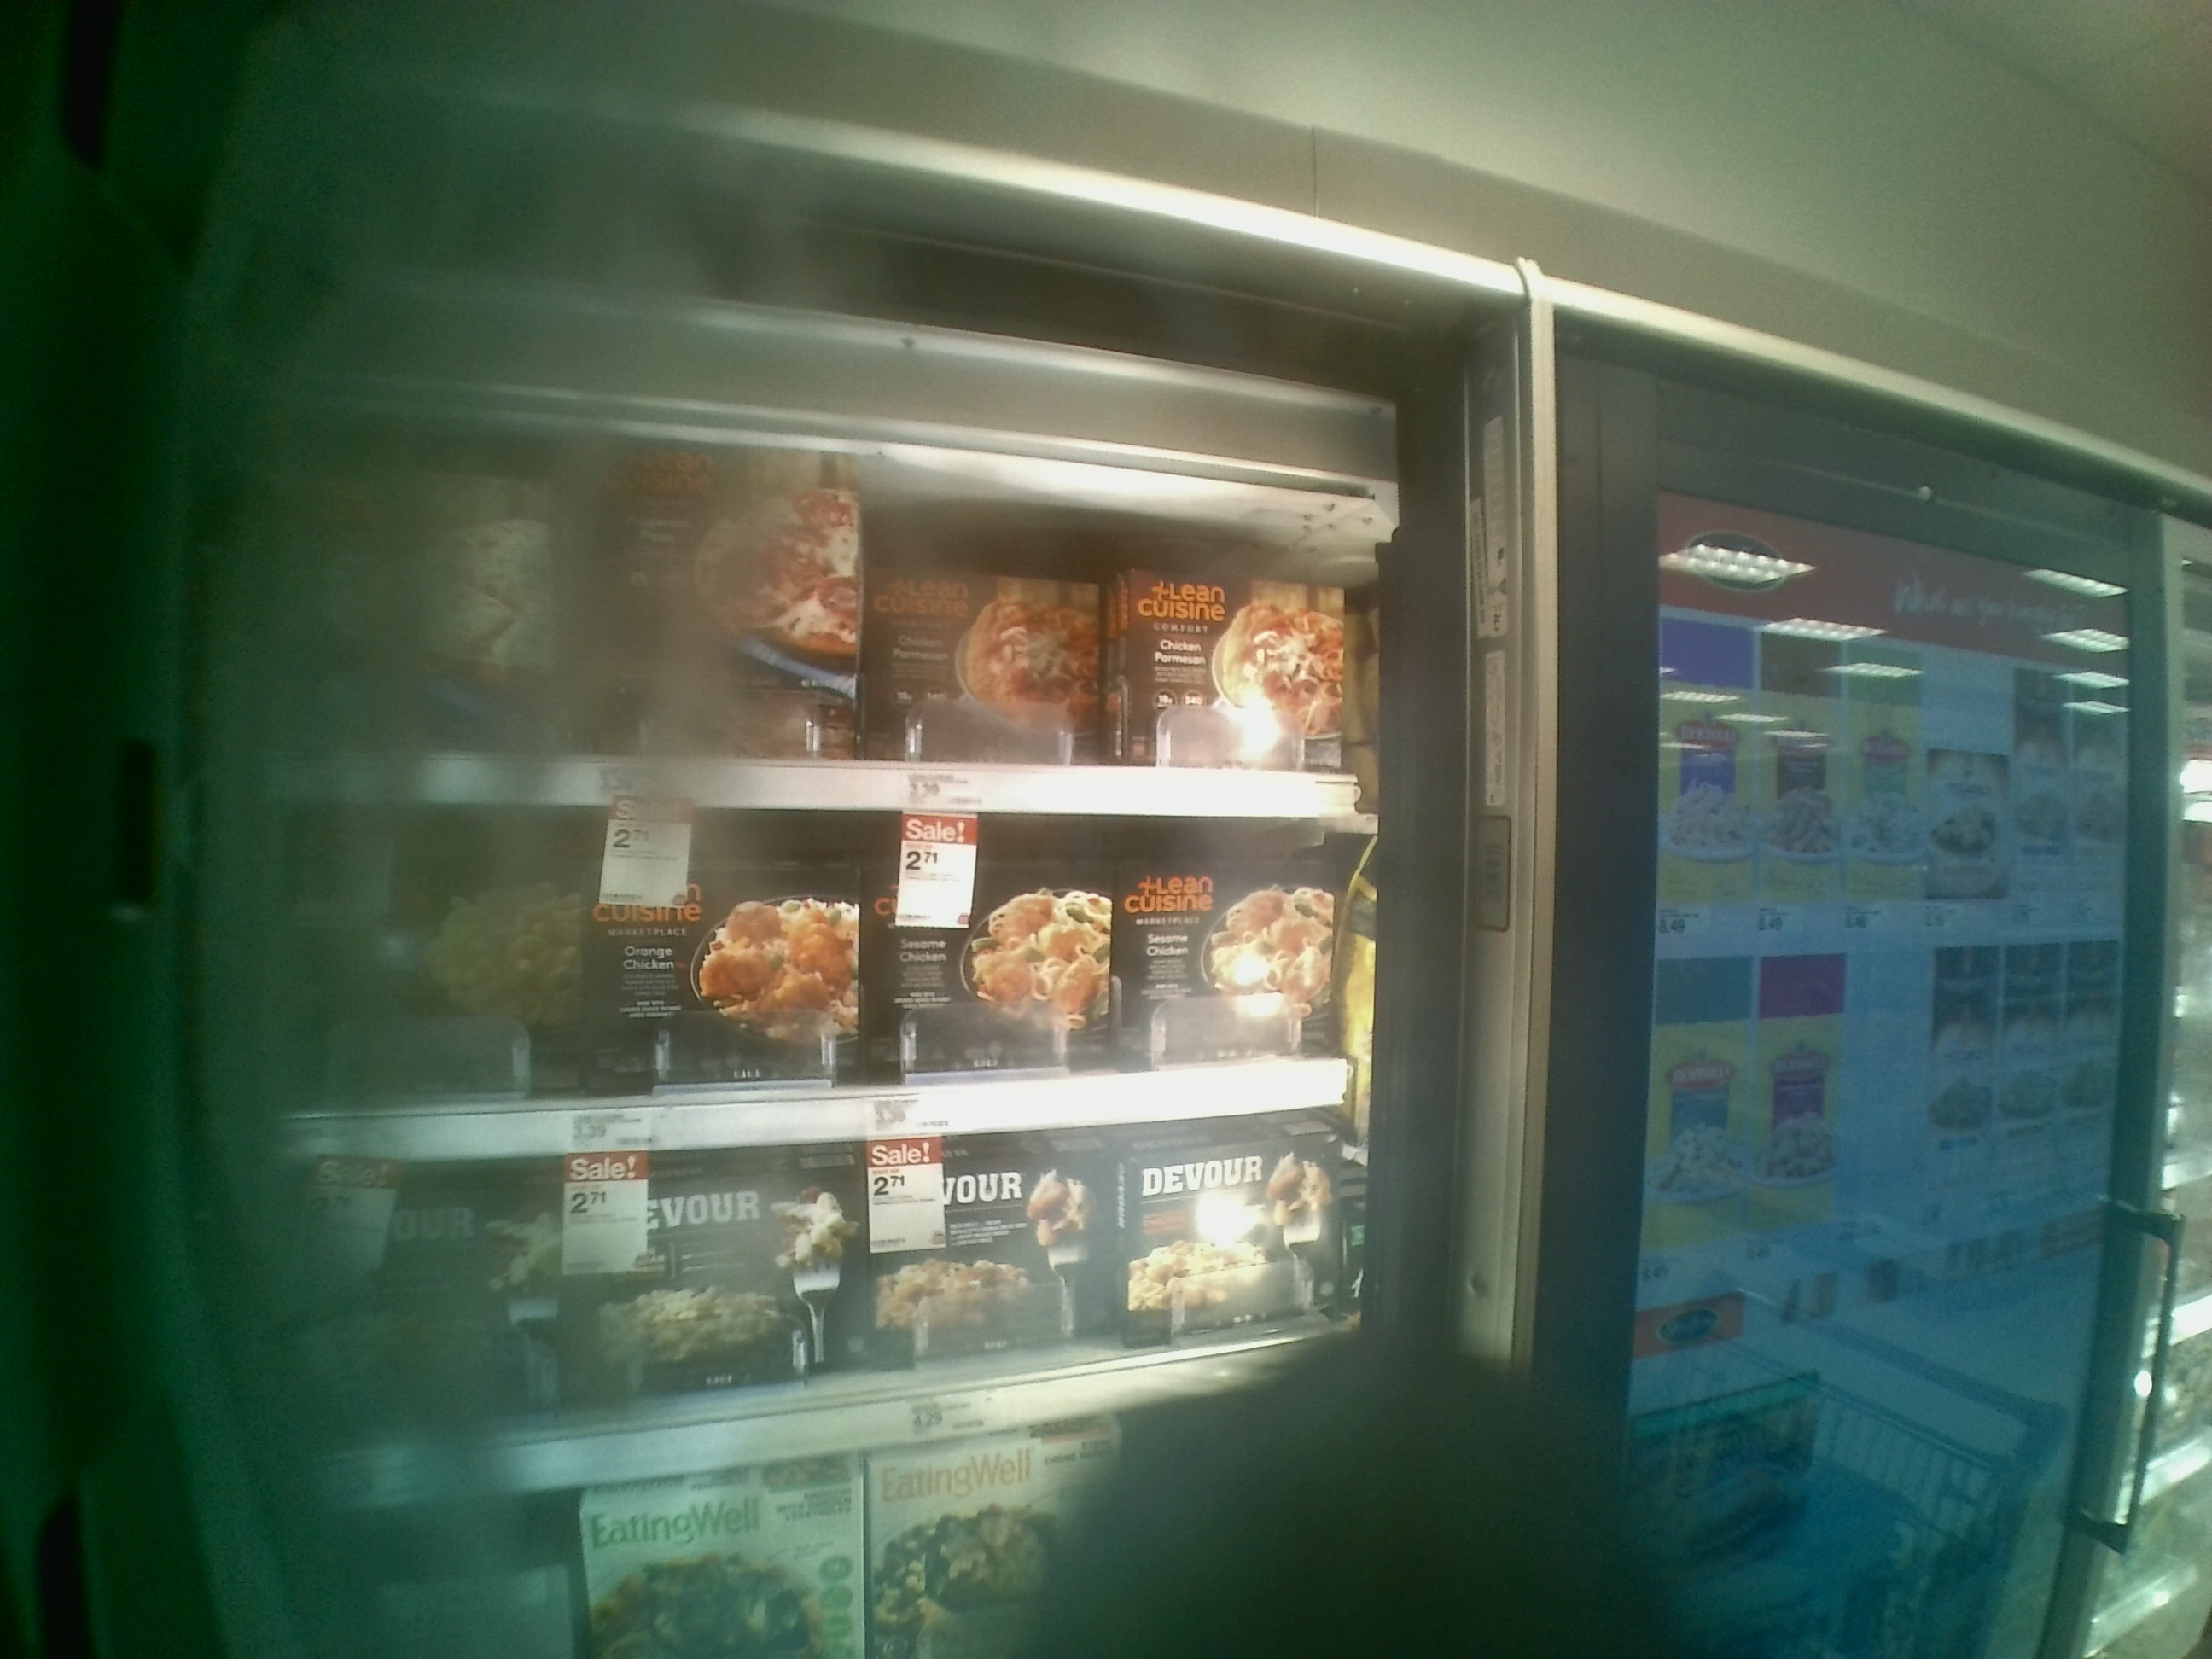shelf: (246, 385, 1372, 823), (239, 798, 1406, 1166)
